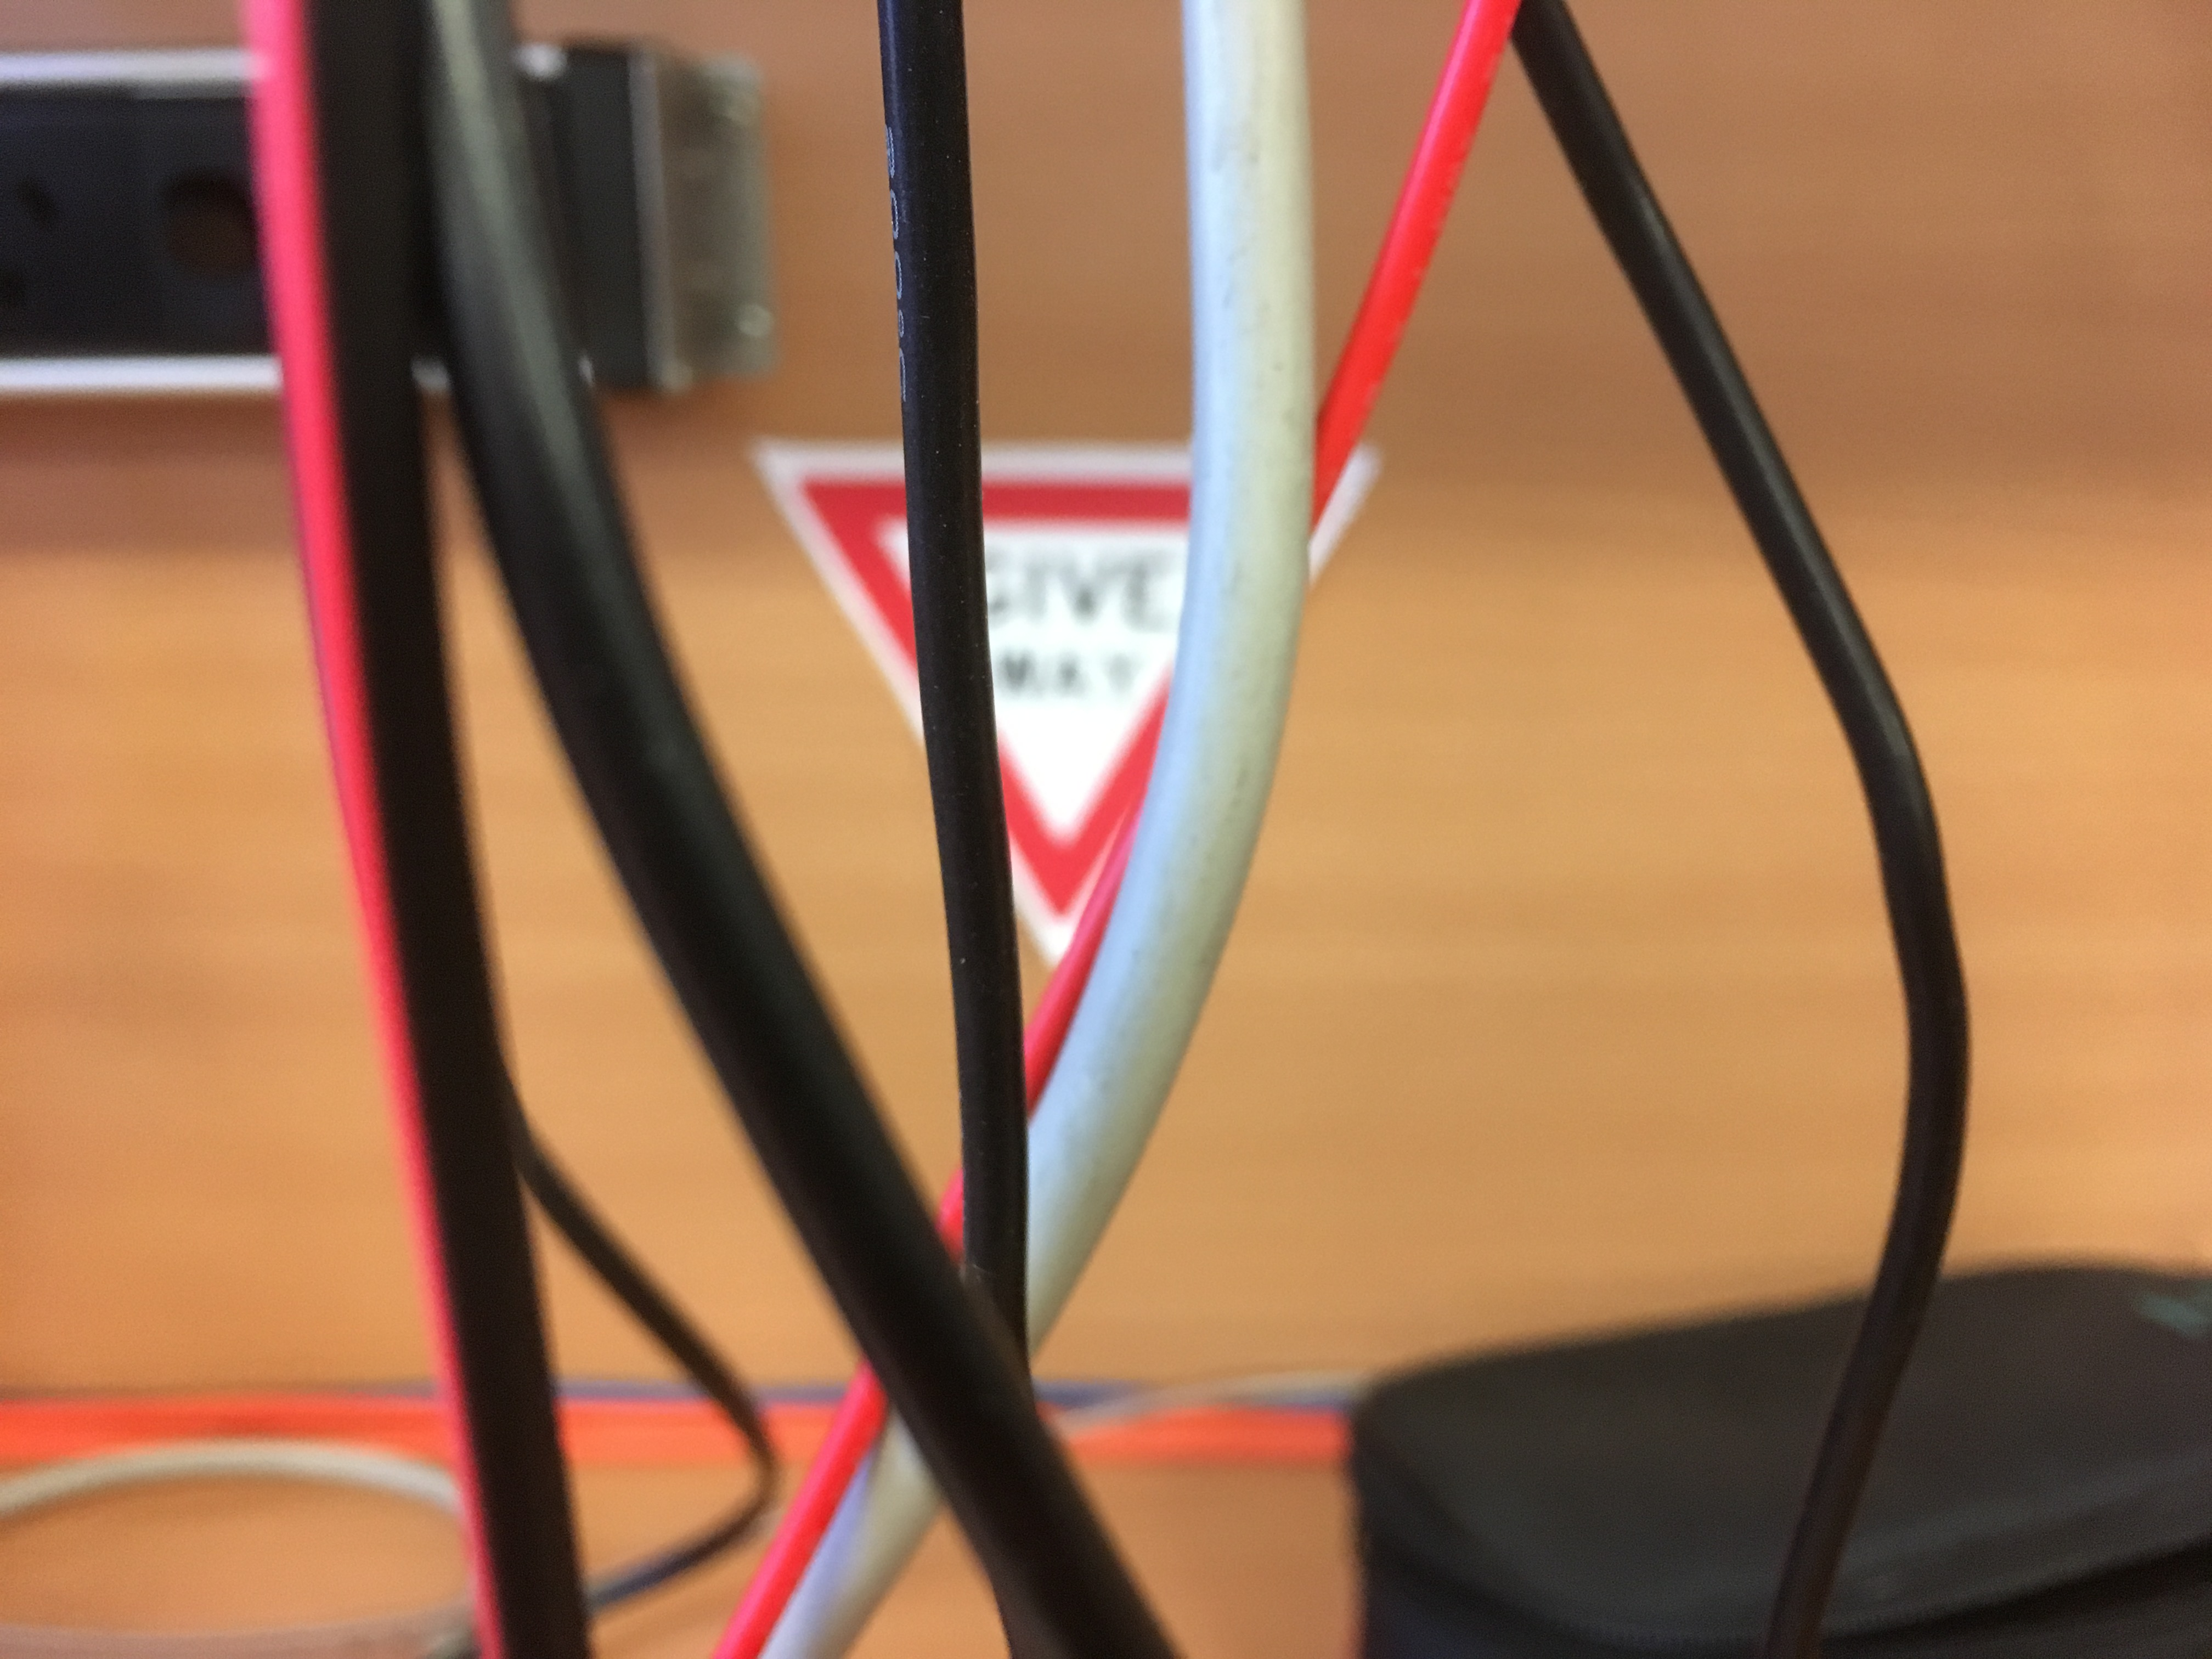giveway: (794, 469, 1200, 906)
